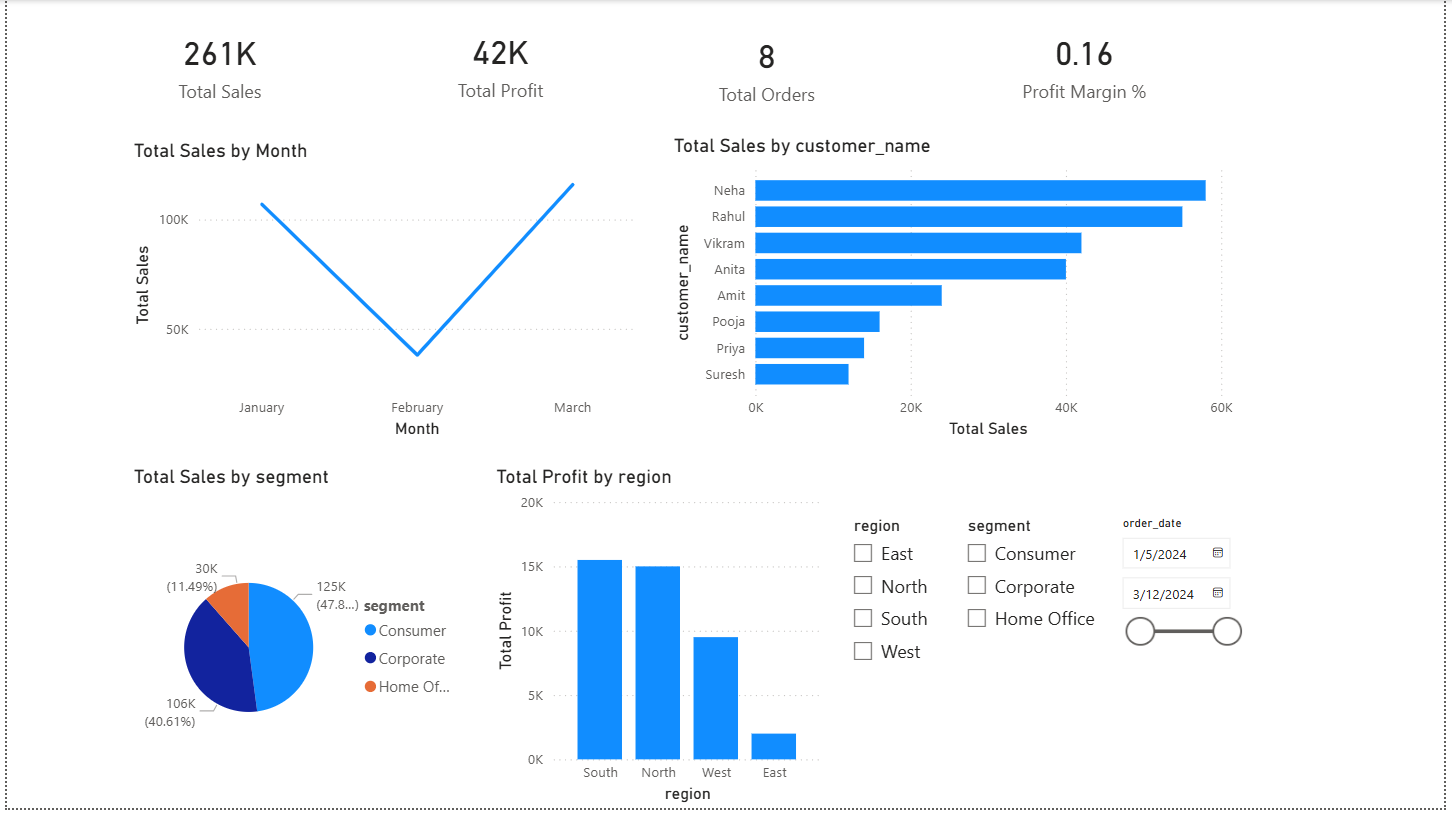

This screenshot's page, from the dashboard's own definition file:
{"tool":"powerbi","page":{"name":"Page 1","canvas":[1280,720],"ordinal":0},"visuals":[{"type":"card","fields":{"Values":["customer_sales.Total Sales"]},"box":[43.4,6.7,292.8,100.2],"z":0},{"type":"card","fields":{"Values":["customer_sales.Total Profit"]},"box":[320.6,0,238.2,112.4],"z":1},{"type":"card","fields":{"Values":["customer_sales.Total Orders"]},"box":[558.8,6.7,236,105.8],"z":2},{"type":"card","fields":{"Values":["customer_sales.Profit Margin %"]},"box":[839.3,6.7,240.4,100.2],"z":3},{"type":"lineChart","fields":{"Y":["customer_sales.Total Sales"],"Category":["customer_sales.order_date.Variation.Date Hierarchy.Month"]},"box":[108,123.6,456.4,271.6],"z":4},{"type":"clusteredBarChart","fields":{"Category":["customer_sales.customer_name"],"Y":["customer_sales.Total Sales"]},"box":[588.9,119.1,507.6,276.1],"z":5},{"type":"pieChart","fields":{"Category":["customer_sales.segment"],"Y":["customer_sales.Total Sales"]},"box":[108,414.1,303.9,306.1],"z":6},{"type":"clusteredColumnChart","fields":{"Category":["customer_sales.region"],"Y":["customer_sales.Total Profit"]},"box":[430.8,414.1,299.4,306.1],"z":7},{"type":"slicer","fields":{"Values":["customer_sales.region"]},"box":[741.4,454.2,98,192.6],"z":8},{"type":"slicer","fields":{"Values":["customer_sales.segment"]},"box":[842.7,454.2,138,192.6],"z":9},{"type":"slicer","fields":{"Values":["customer_sales.order_date"]},"box":[980.7,454.2,126.9,192.6],"z":10}]}

Visuals, with their boxes in screenshot pixels (x1, y1, x2, y2), scaled from the page's 1280x720 canvas onto the 1452x816 screenshot:
card - customer_sales.Total Sales: 49 8 381 121
card - customer_sales.Total Profit: 364 0 634 127
card - customer_sales.Total Orders: 634 8 902 128
card - customer_sales.Profit Margin %: 952 8 1225 121
lineChart - customer_sales.Total Sales x customer_sales.order_date.Variation.Date Hierarchy.Month: 123 140 640 448
clusteredBarChart - customer_sales.customer_name x customer_sales.Total Sales: 668 135 1244 448
pieChart - customer_sales.segment x customer_sales.Total Sales: 123 469 467 815
clusteredColumnChart - customer_sales.region x customer_sales.Total Profit: 489 469 828 815
slicer - customer_sales.region: 841 515 952 733
slicer - customer_sales.segment: 956 515 1112 733
slicer - customer_sales.order_date: 1112 515 1256 733
